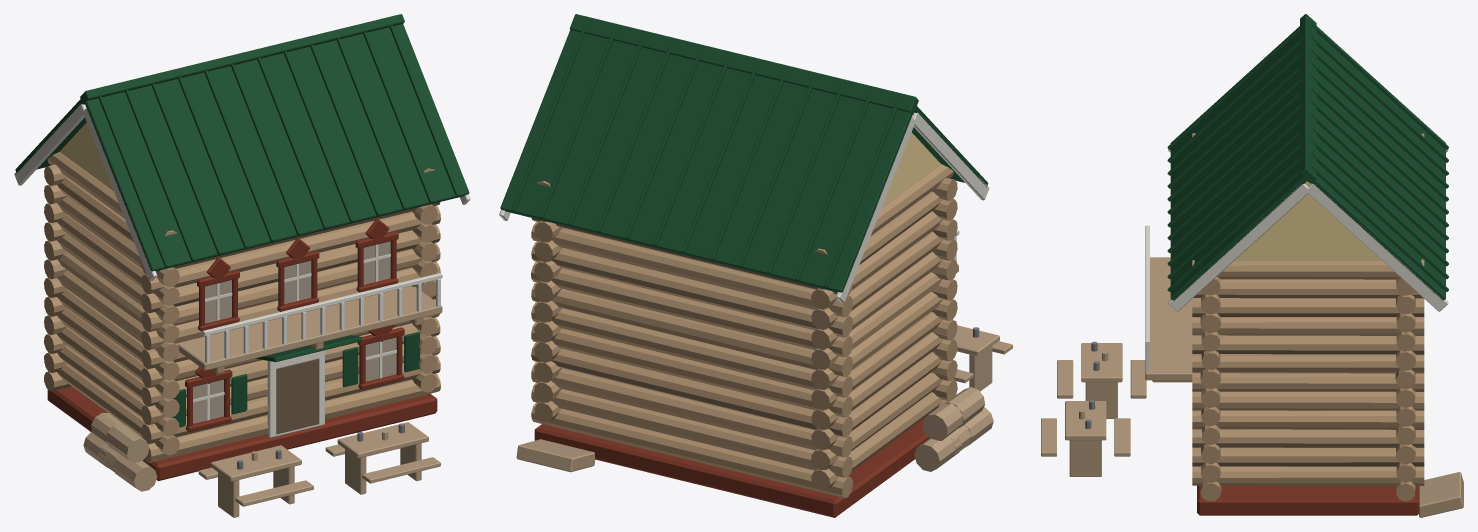
File: bld_traktir_e2.glb
3 renders of one model, left to right at view 1: azimuth 30°, elevation 25°; view 2: azimuth 150°, elevation 25°; view 3: azimuth 270°, elevation 25°, orthographic. The views are drawn at different scales.
Parts seen in each view (by area): view 1: traktir; view 2: traktir; view 3: traktir.
Part boxes in pixels (x1,y1,x2,y2): traktir: [14, 14, 470, 517]; traktir: [499, 14, 1012, 517]; traktir: [1041, 14, 1463, 517].
Size of the model in its own units: 1.66 by 1.74 by 1.84.
